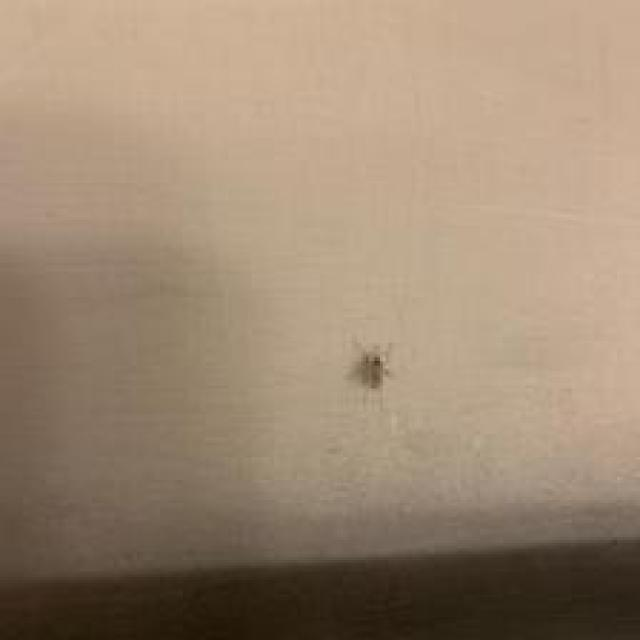Culex: (350, 336, 396, 407)
